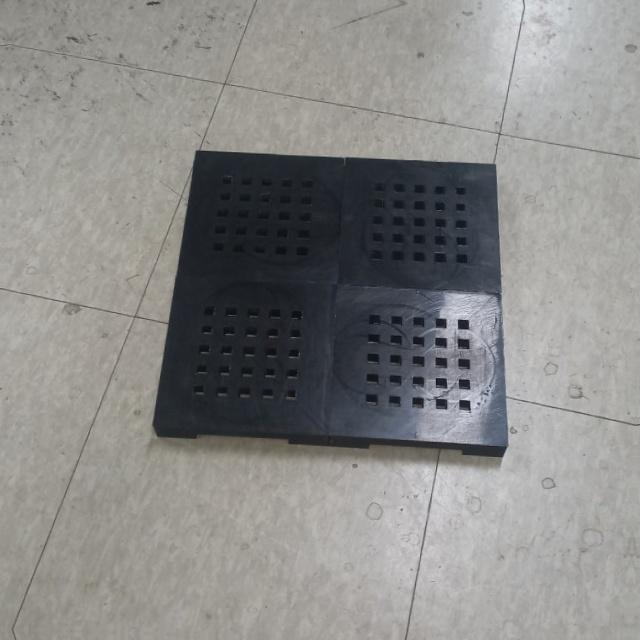pallet: (144, 145, 520, 463)
